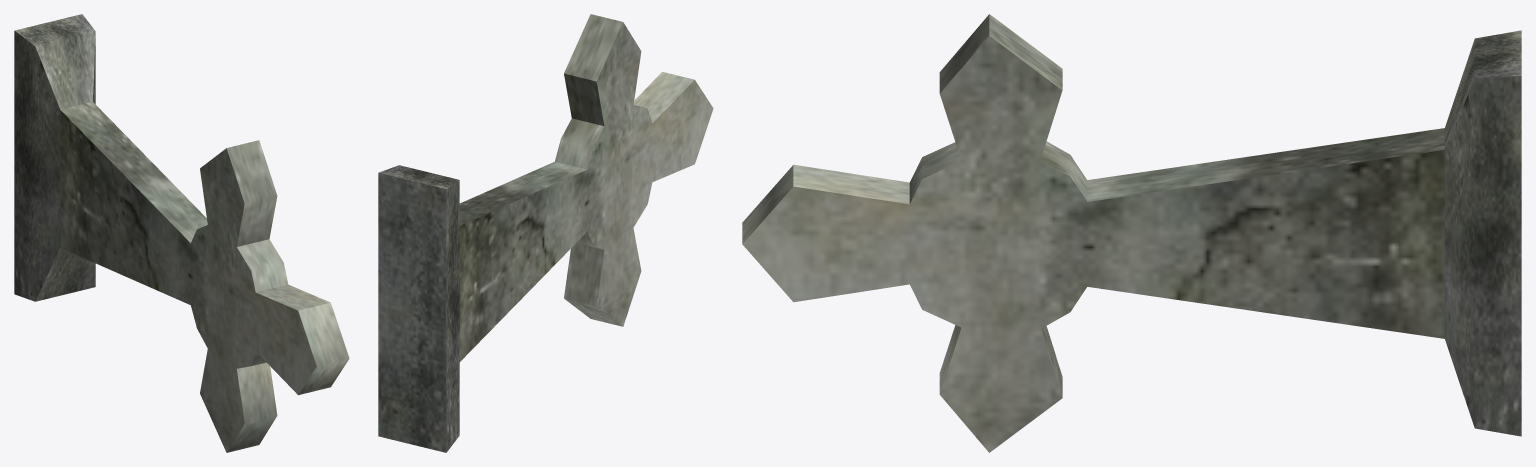
The model's file is prop_tombstone7.glb.
The picture shows the model from 3 angles, left to right: view 1: azimuth 30°, elevation 25°; view 2: azimuth 150°, elevation 25°; view 3: azimuth 270°, elevation 25°; orthographic projection. The views are drawn at different scales.
Size of the model in its own units: 7.15 by 30.64 by 51.88.
1 material, 1 textured.
